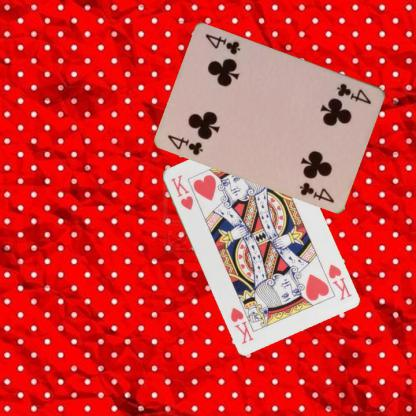4c: (334, 80, 373, 105), (165, 132, 205, 156)
Kh: (325, 261, 353, 302), (168, 172, 195, 212)
